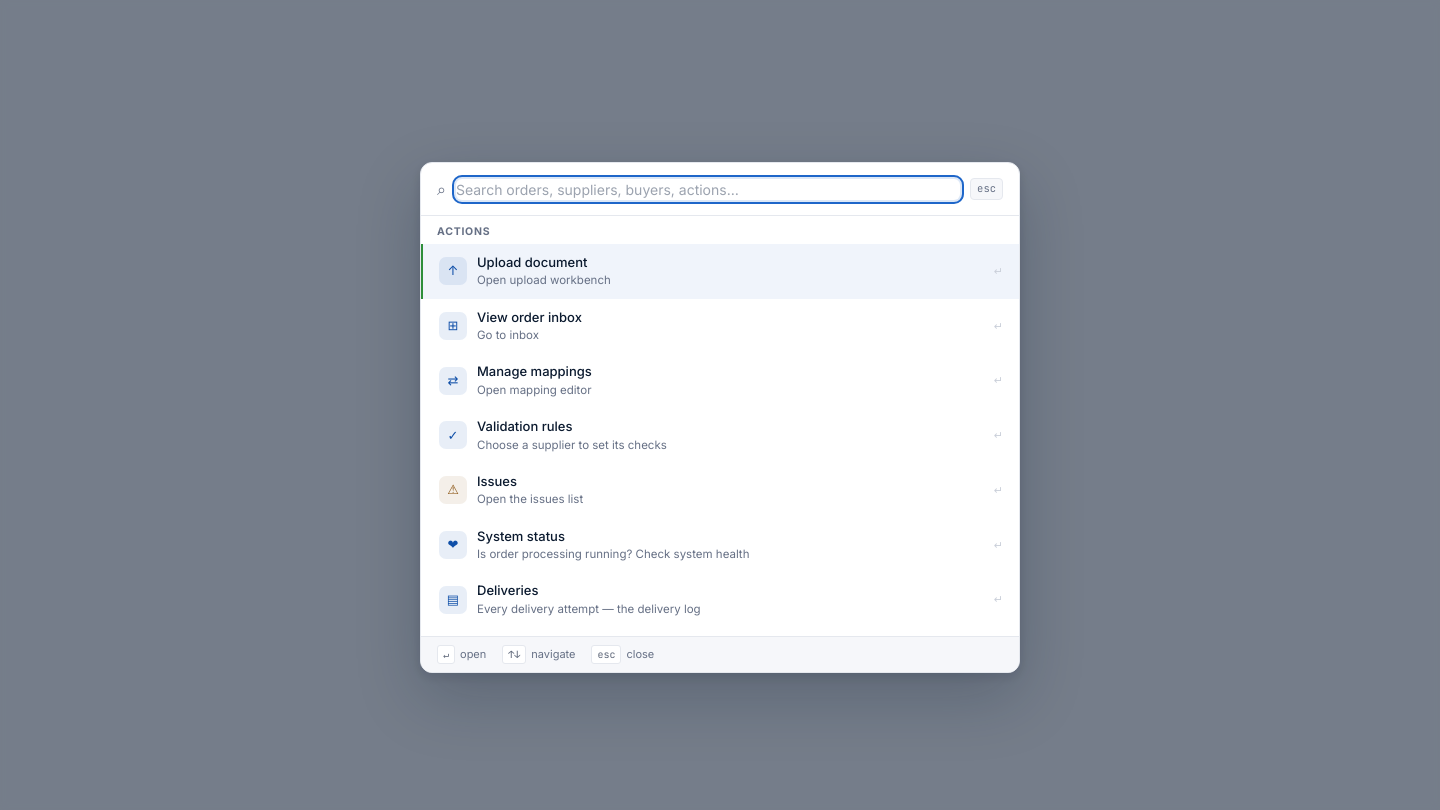
command palette search — does not answer before it has searched › says it is searching while the debounce and request are still outstanding
Type "z" into the dropdown at (708, 189), box [456,178,960,200]
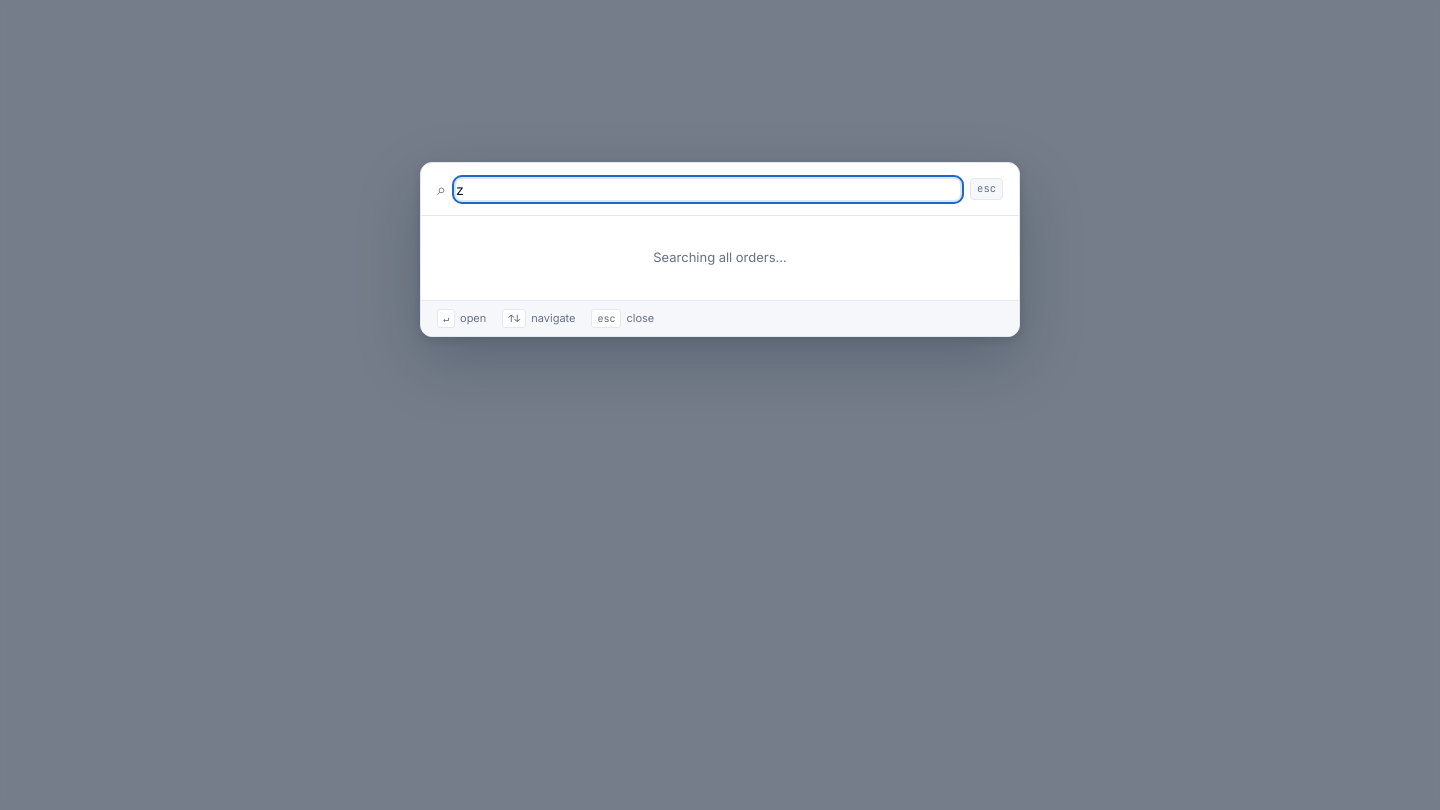
Check: the text "Searching all orders" is shown, box [653,249,787,265]
